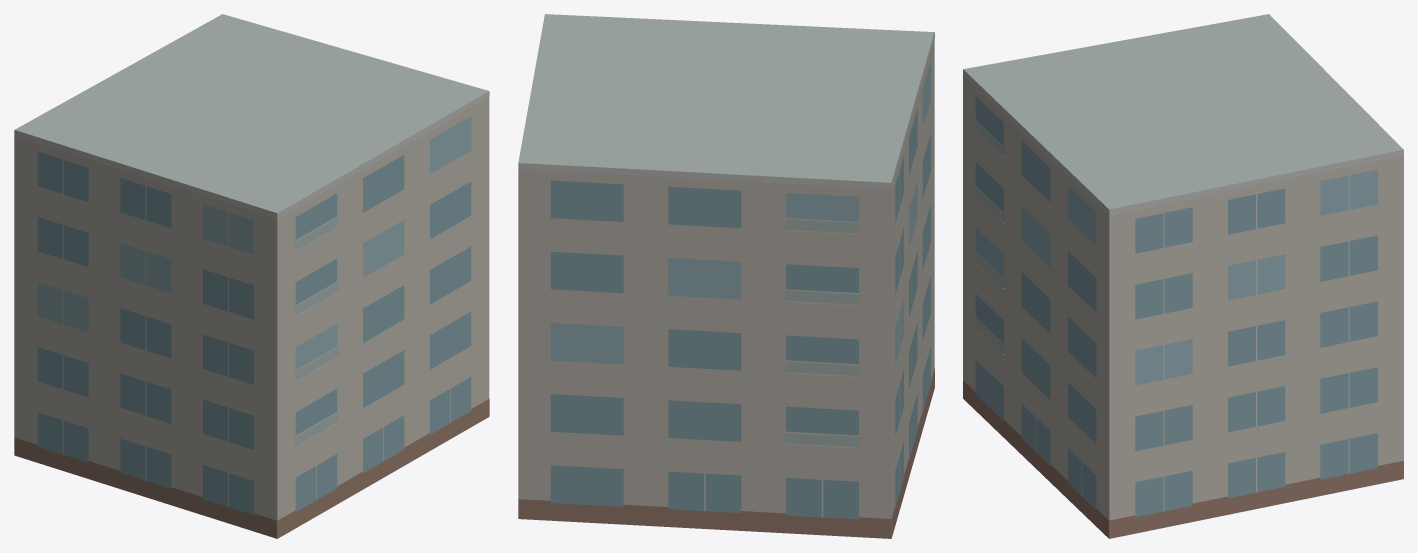
Rendered from survey-upis-33006286.glb.
3 views of the same model, side by side, from view 1: azimuth 30°, elevation 25°; view 2: azimuth 150°, elevation 25°; view 3: azimuth 270°, elevation 25° (orthographic). The views are drawn at different scales.
Visible parts, largest first — view 1: survey-upis-33006286.tmp; view 2: survey-upis-33006286.tmp; view 3: survey-upis-33006286.tmp.
Boxes of the visible parts, x1=… form: survey-upis-33006286.tmp: x1=14, y1=14, x2=489, y2=538; survey-upis-33006286.tmp: x1=518, y1=14, x2=934, y2=538; survey-upis-33006286.tmp: x1=963, y1=14, x2=1403, y2=538.
Size of the model in its own units: 17.13 by 13.45 by 16.32.
